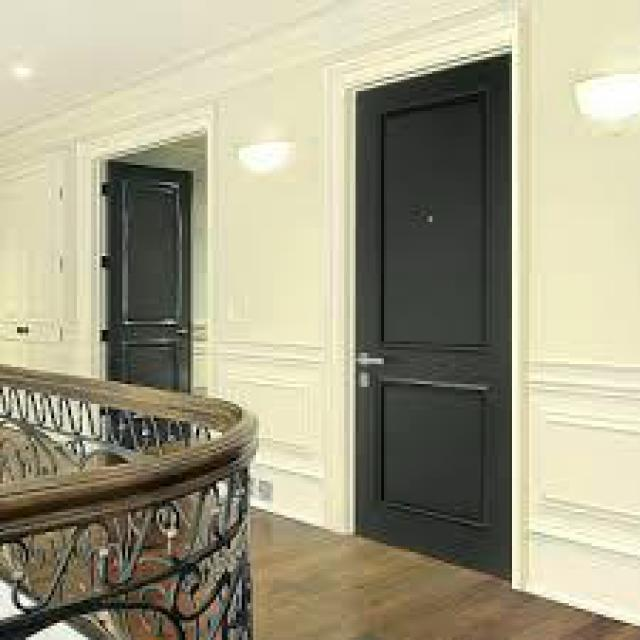door: (352, 54, 513, 580)
